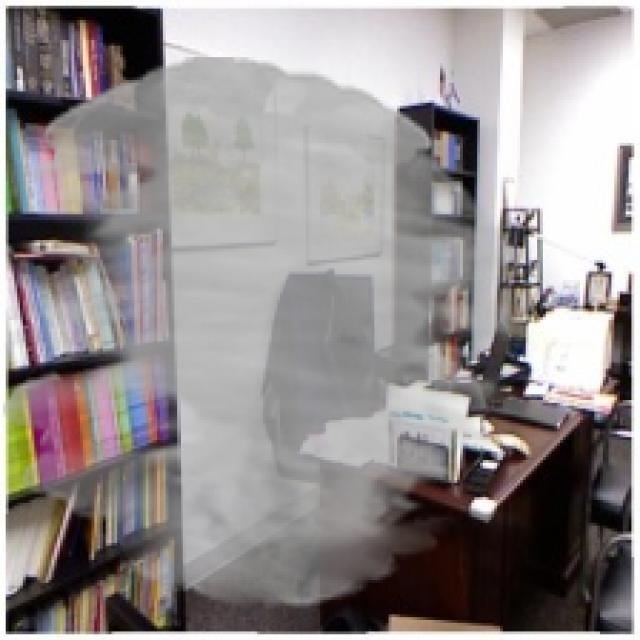smoke: (3, 57, 528, 609)
